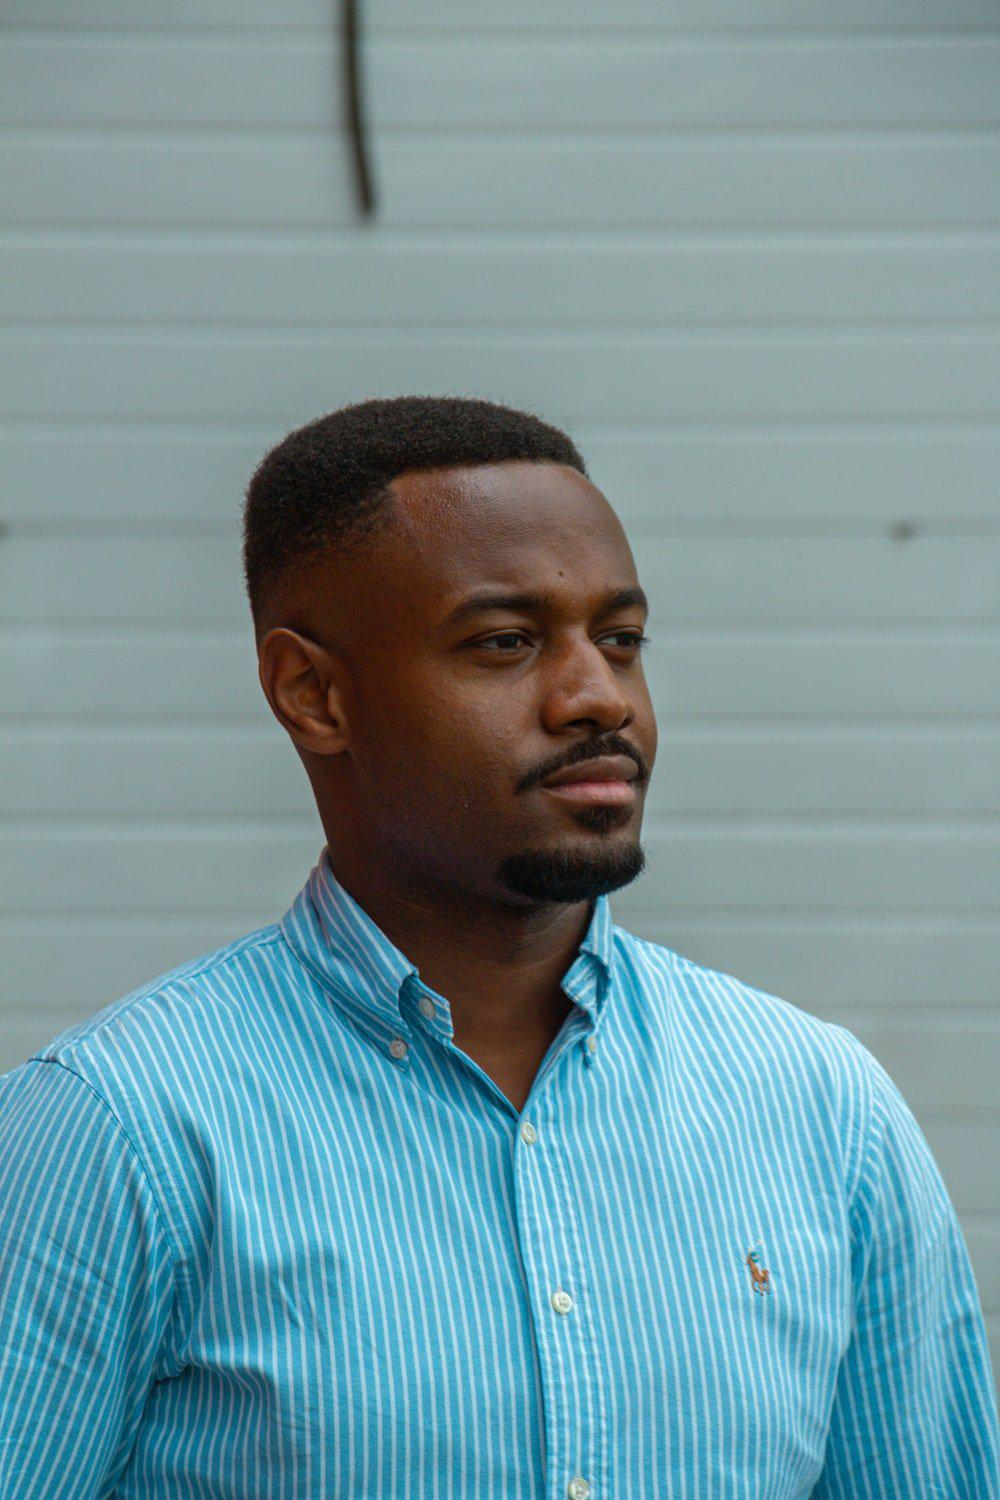Sober: (350, 448, 687, 905)
